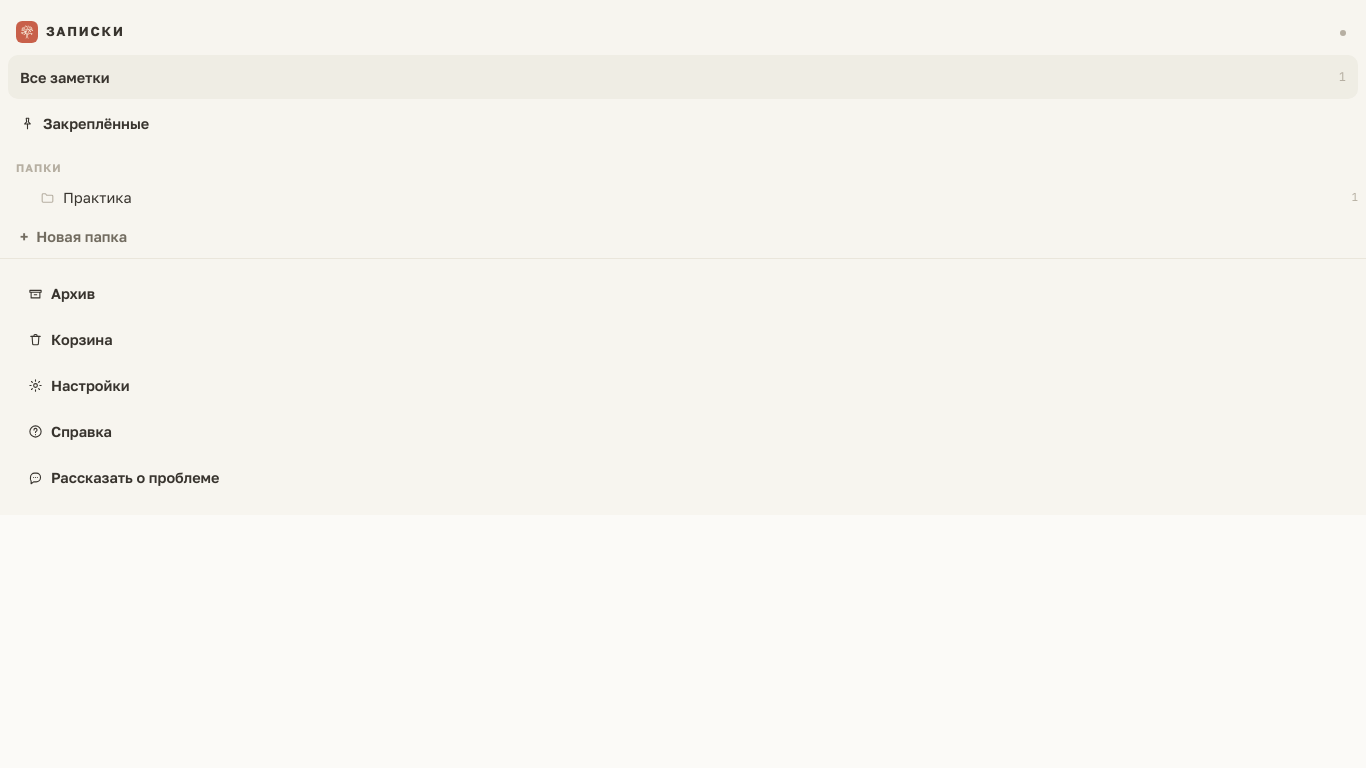
Test: меню папки открывается жестом из ТЗ › «Удалить папку» доводит до выбора исхода, а не удаляет молча
Right-click the list item at (97, 197), box [0,180,1365,214]
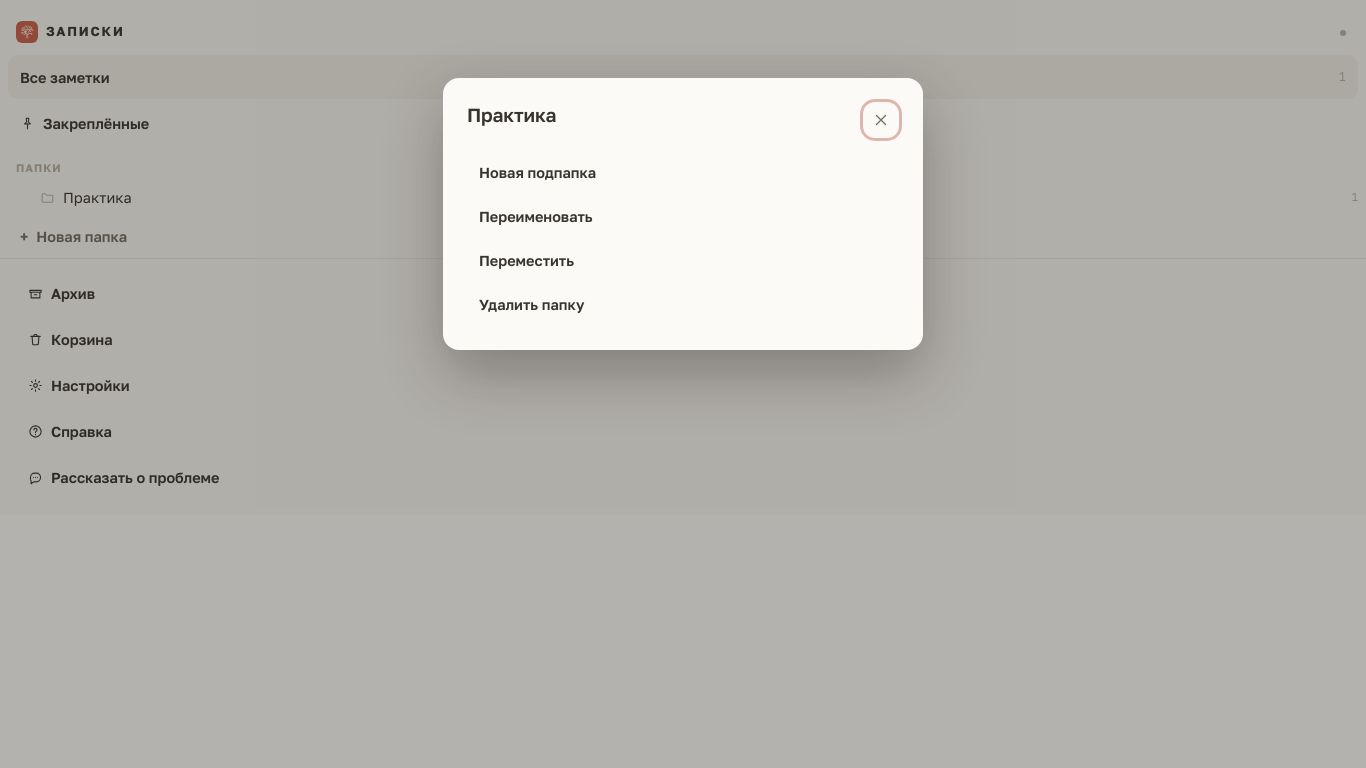
Click the menu item "Удалить папку" at (532, 304), box [467,282,899,326]
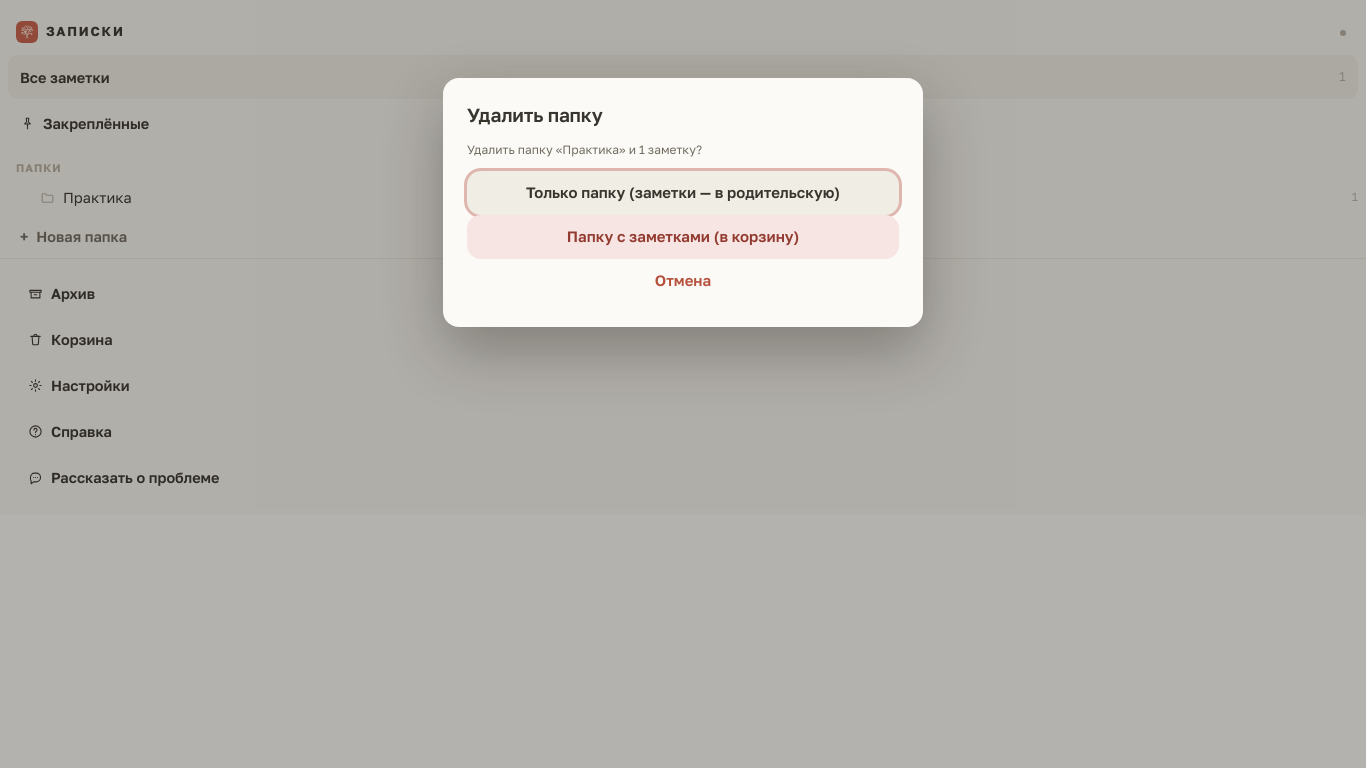
Expected: the button "Только папку (заметки — в родительскую)" is shown, [467,171,899,215]
